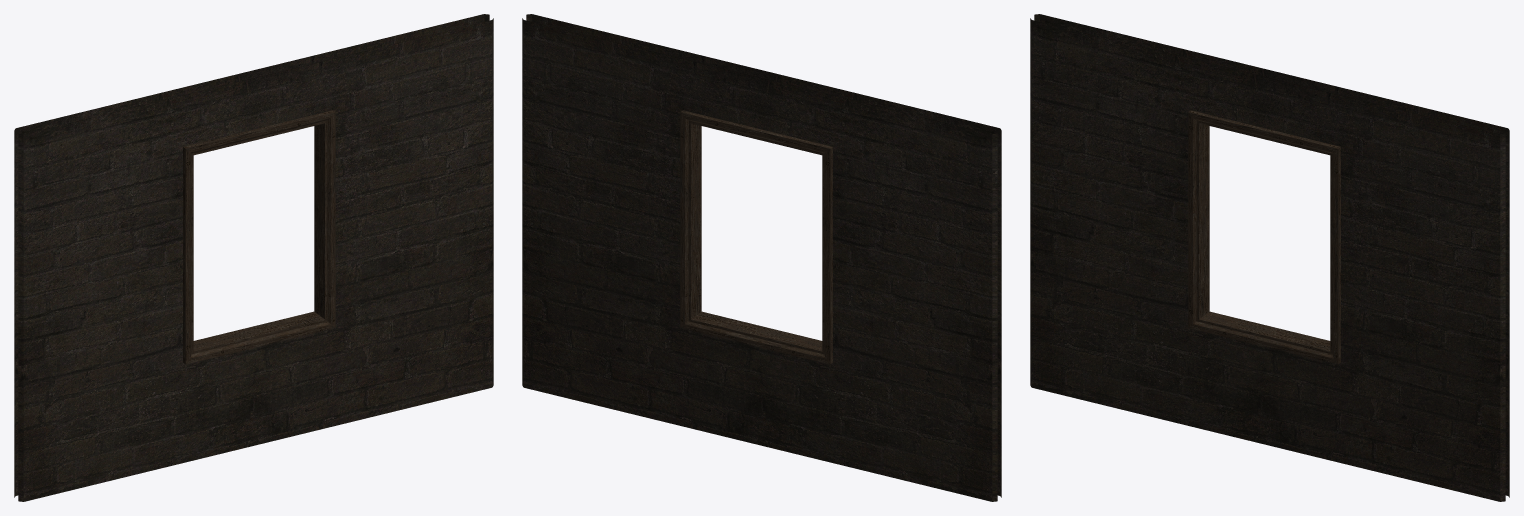
File: window_1_single_frame_only.glb
3 views of the same model, side by side, from view 1: azimuth 30°, elevation 25°; view 2: azimuth 150°, elevation 25°; view 3: azimuth 330°, elevation 25° (orthographic).
Visible parts, largest first — view 1: window_1_single_frame_only; view 2: window_1_single_frame_only; view 3: window_1_single_frame_only.
Boxes of the visible parts, x1,y1,x2,y2 form: window_1_single_frame_only: (14,14,493,501); window_1_single_frame_only: (522,14,1001,501); window_1_single_frame_only: (1030,14,1509,501).
Bounding box in the file's own units: 4.06 × 3 × 0.2.
Materials: 2 (2 with a texture image).
